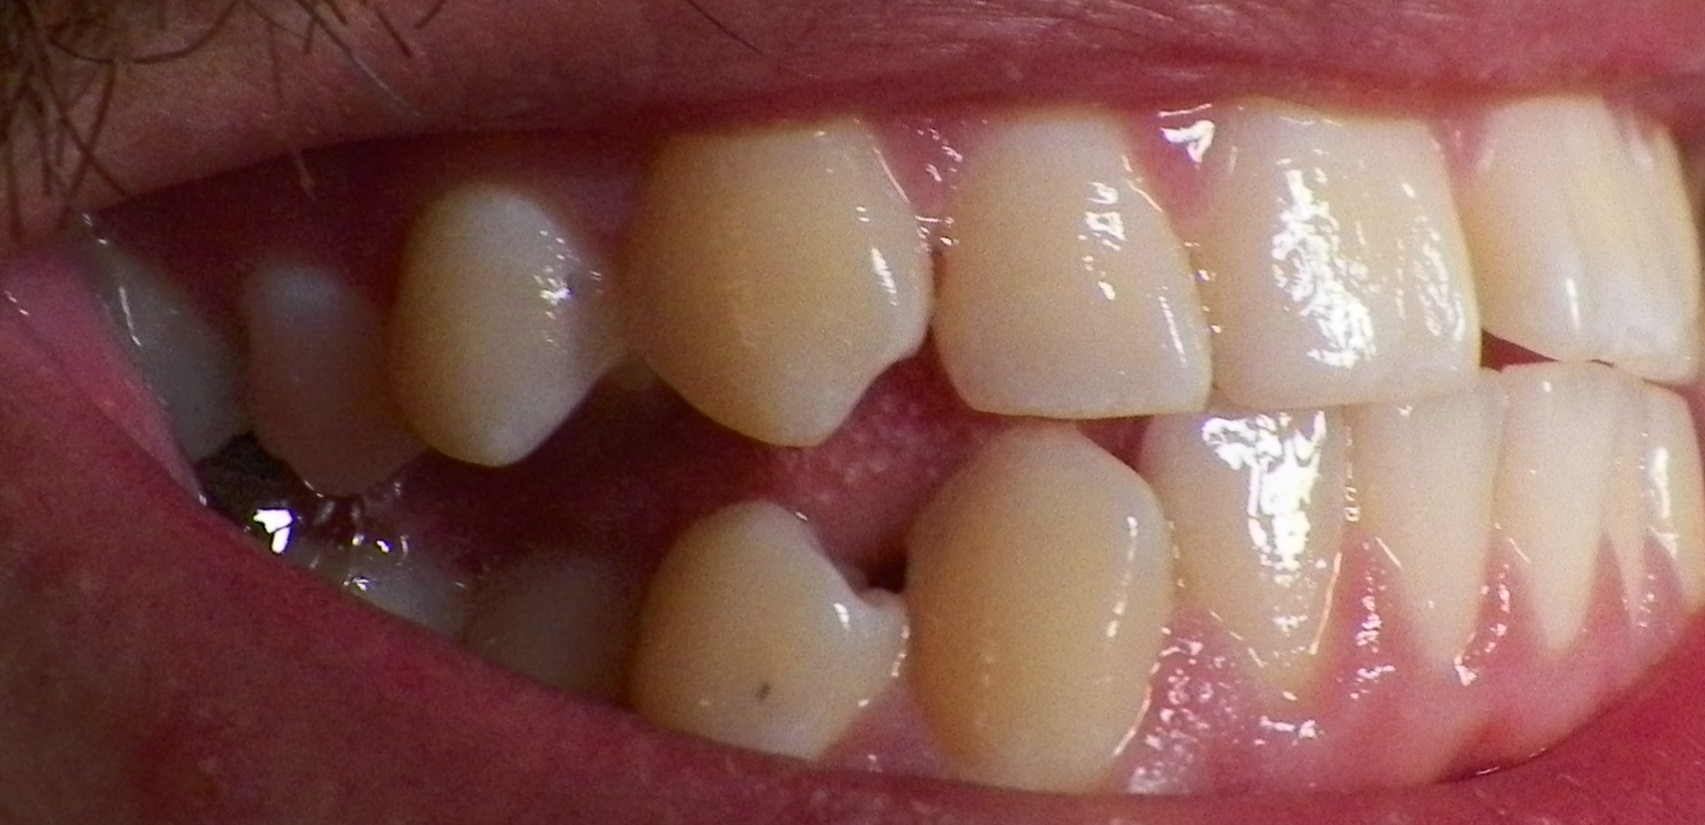boca: (79, 103, 1705, 763)
